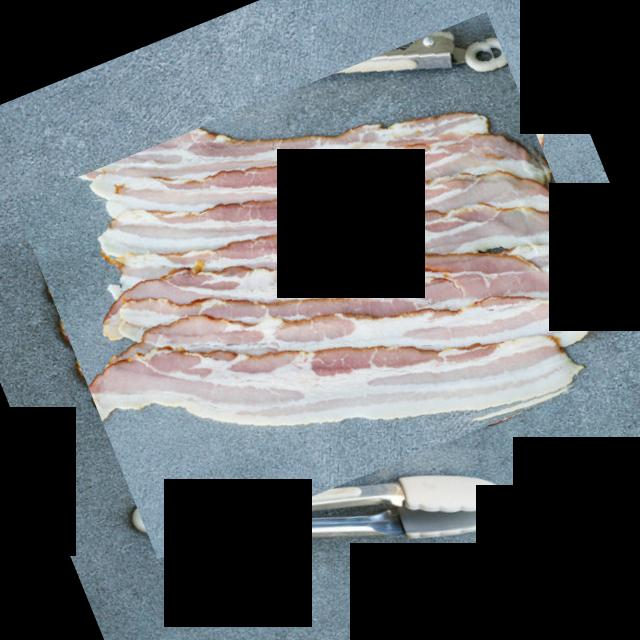bacon: (14, 11, 630, 558)
